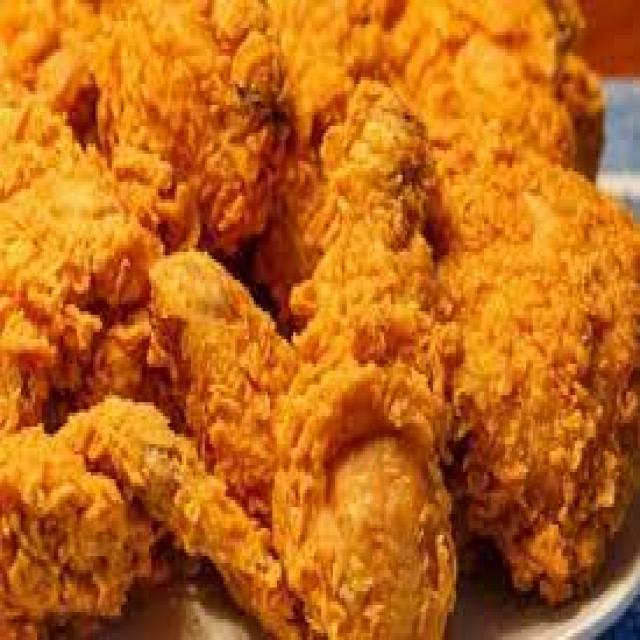Frango: (254, 108, 462, 640), (417, 132, 640, 585), (0, 402, 310, 619), (0, 114, 164, 458), (271, 0, 604, 169), (71, 2, 271, 279), (154, 252, 330, 465)
